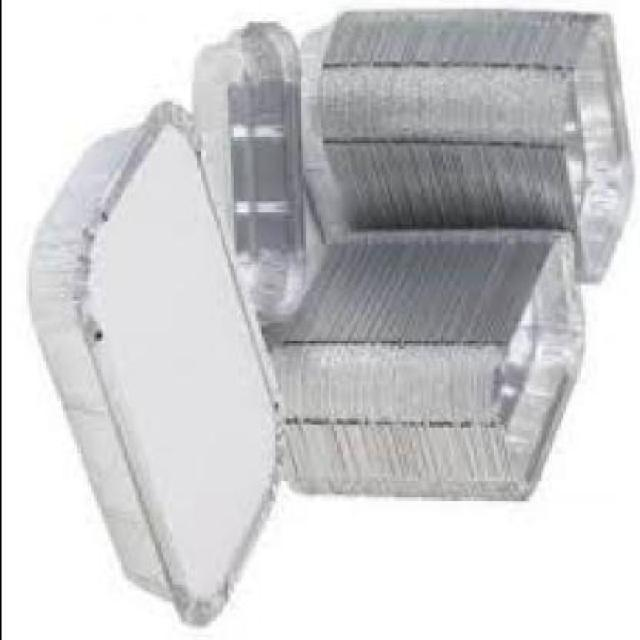metal: (34, 108, 291, 628), (300, 15, 635, 286), (268, 235, 582, 500), (193, 26, 304, 317)
